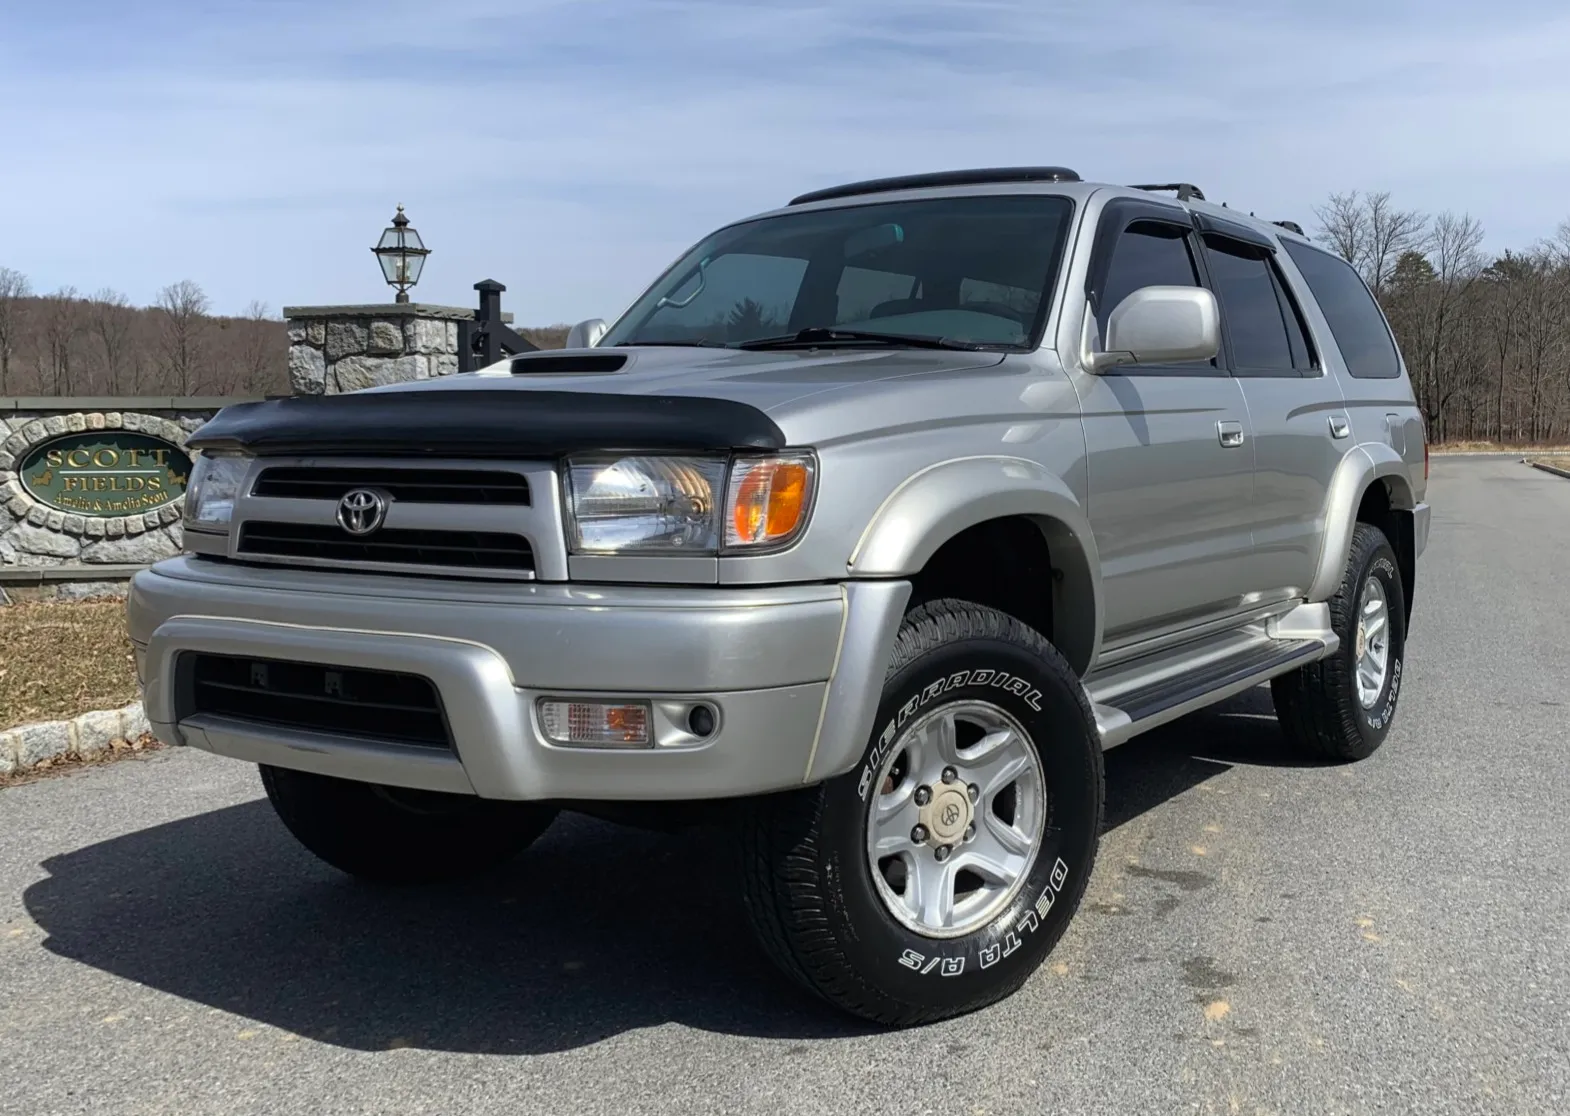car: (120, 155, 1440, 1023)
